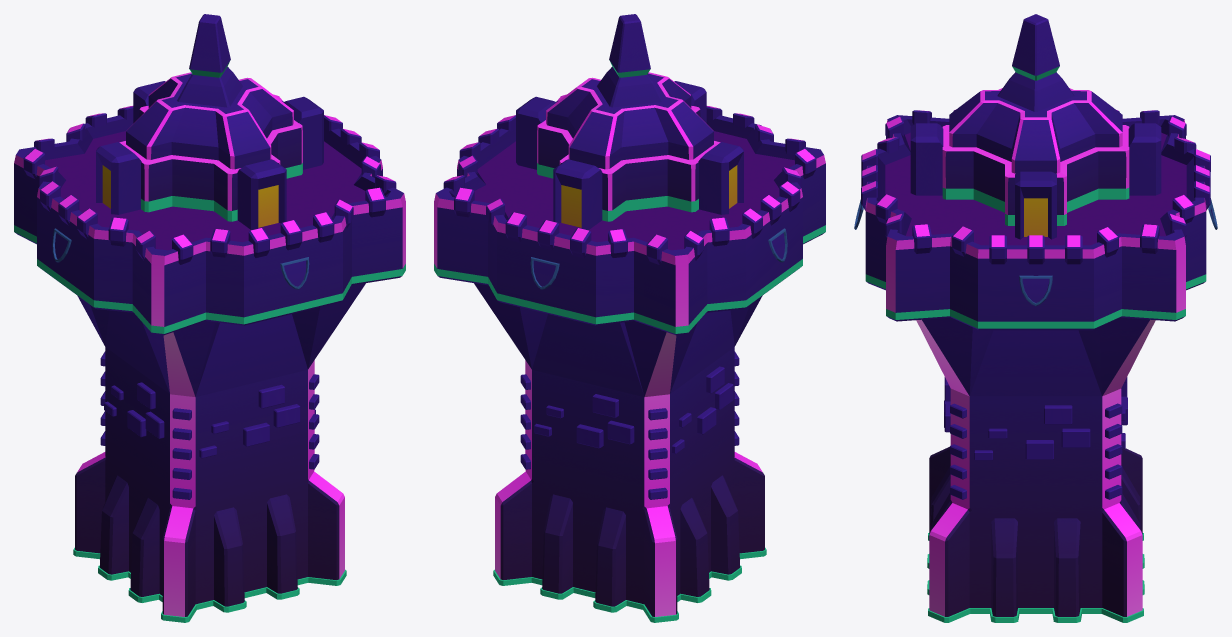
File: Tower3_big.fbx
The picture shows the model from 3 angles, left to right: view 1: azimuth 30°, elevation 25°; view 2: azimuth 150°, elevation 25°; view 3: azimuth 270°, elevation 25°; orthographic projection. The views are drawn at different scales.
Visible parts, largest first — view 1: Tower3; view 2: Tower3; view 3: Tower3.
Part boxes in pixels (x1,y1,x2,y2): Tower3: (14, 14, 405, 622); Tower3: (434, 14, 825, 622); Tower3: (854, 14, 1217, 622).
Bounding box in the file's own units: 605 × 1026 × 605.
